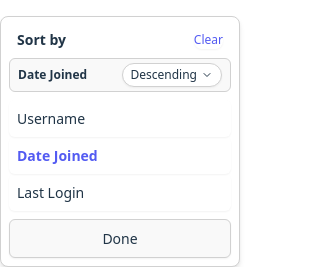
Scenario: SearchSortPanel Component › opens the direction dropdown when the direction chip is clicked
The width and height of the screenshot is (320, 267).
(page scrolled)
What coordinates should you click on to do the following:
click the button "Descending"
I would click on:
 (172, 75)
Its box is [122, 63, 222, 87].
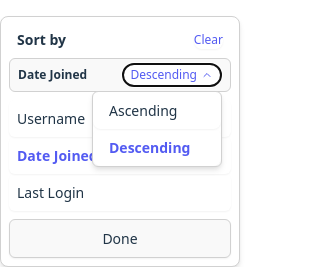
Now the option "Ascending" is shown, box [93, 92, 221, 129]
